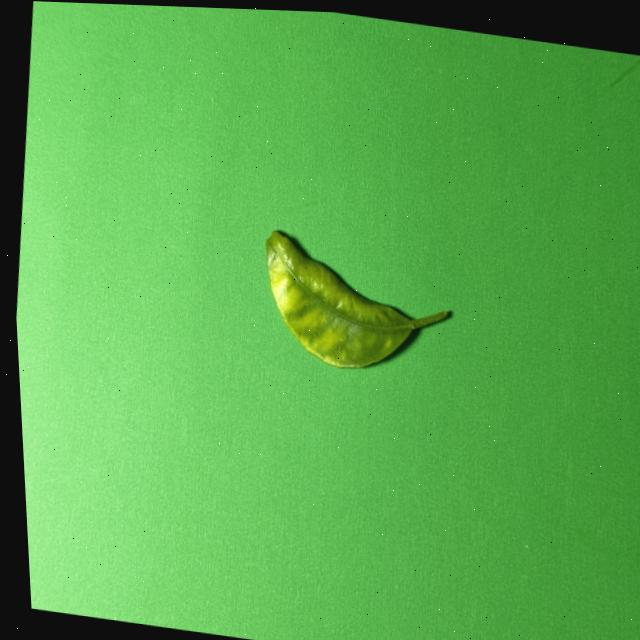greening: (264, 231, 449, 367)
